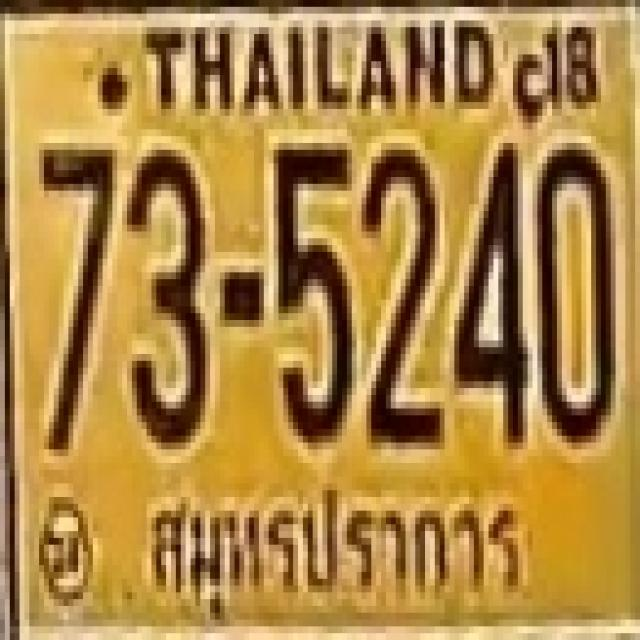0: (532, 140, 610, 439)
2: (356, 146, 434, 412)
3: (125, 143, 202, 443)
4: (449, 140, 523, 439)
5: (269, 140, 347, 439)
7: (36, 143, 114, 436), (36, 143, 114, 395), (36, 147, 114, 330)
SPK: (138, 472, 538, 629)
